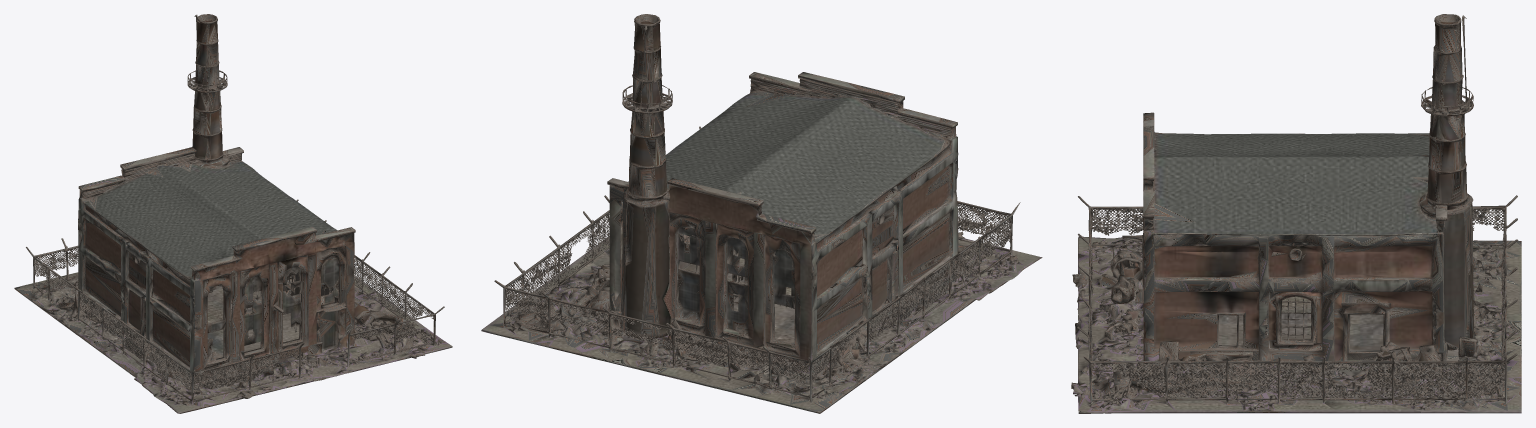
File: factory_b.glb
The picture shows the model from 3 angles, left to right: view 1: azimuth 30°, elevation 25°; view 2: azimuth 150°, elevation 25°; view 3: azimuth 270°, elevation 25°; orthographic projection. The views are drawn at different scales.
Size of the model in its own units: 27.48 by 24 by 29.75.
1 material, 1 textured.
